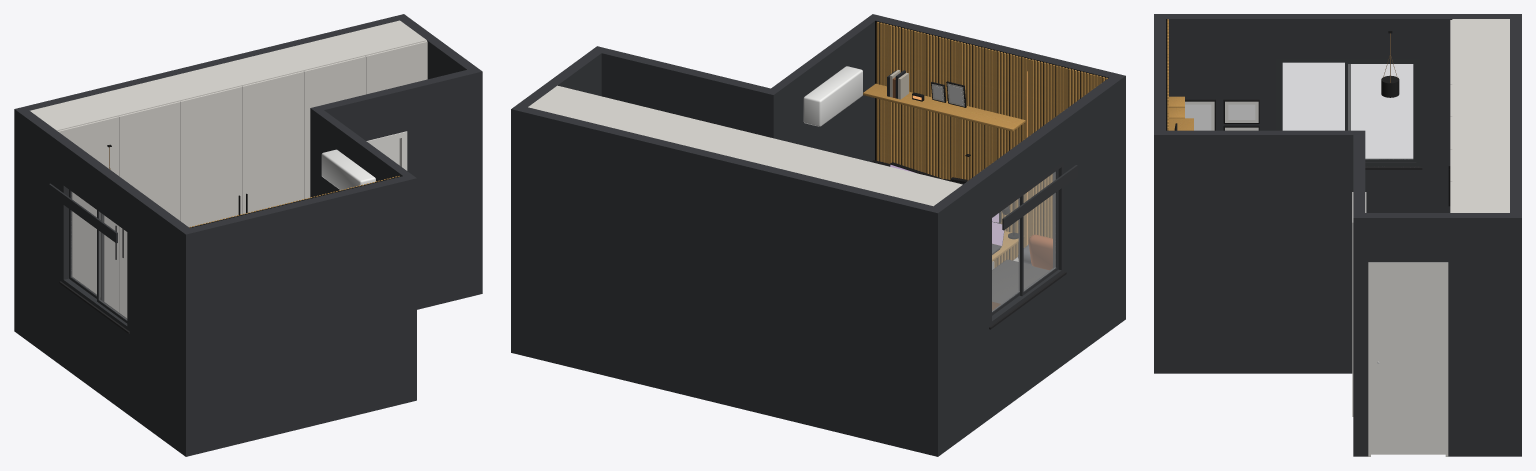
File: quarto.glb
The picture shows the model from 3 angles, left to right: view 1: azimuth 30°, elevation 25°; view 2: azimuth 150°, elevation 25°; view 3: azimuth 270°, elevation 25°; orthographic projection. The views are drawn at different scales.
Visible parts, largest first — view 1: Parede_D, Banheiro_LE, Parede_E_trecho_EE, Parede_E_trecho_ED, Armario_existente_corpo, Armario_existente_porta_4, Armario_existente_porta_3, Armario_existente_porta_2, Parede_E_peitoril, Parede_C, Armario_existente_porta_1, Parede_E_verga (+13 smaller); view 2: Parede_Fundo_Armario, Ripado_Ripas_Freijo, Parede_E_trecho_ED, Parede_E_trecho_EE, Armario_existente_corpo, Parede_C, Ripado_Fundo_MDF_Preto, Parede_E_peitoril, Parede_E_verga, Banheiro_LE, Parede_D, Banheiro_verga_porta (+11 smaller); view 3: Parede_C, Parede_Leste_2, Porta_Entrada_folha_0_75, Armario_existente_corpo, Parede_E_trecho_EE, Parede_E_verga, Parede_E_trecho_ED, Janela_Folha_2_vidro, Parede_Fundo_Armario, Janela_Folha_1_vidro, Parede_Leste_verga, Parede_Leste_1 (+14 smaller).
Part boxes in pixels (<box>): Parede_D: <box>180,174,416,456</box>; Banheiro_LE: <box>402,70,472,309</box>; Parede_E_trecho_EE: <box>129,190,189,452</box>; Parede_E_trecho_ED: <box>14,107,70,365</box>; Armario_existente_corpo: <box>30,20,426,130</box>; Armario_existente_porta_4: <box>242,71,304,213</box>; Armario_existente_porta_3: <box>180,86,242,227</box>; Armario_existente_porta_2: <box>118,101,180,317</box>; Parede_E_peitoril: <box>61,285,129,414</box>; Parede_C: <box>310,108,416,402</box>; Armario_existente_porta_1: <box>57,116,118,311</box>; Parede_E_verga: <box>61,141,138,229</box>; Parede_Fundo_Armario: <box>511,104,943,456</box>; Ripado_Ripas_Freijo: <box>876,22,1107,267</box>; Parede_E_trecho_ED: <box>927,172,989,456</box>; Parede_E_trecho_EE: <box>1053,77,1119,364</box>; Armario_existente_corpo: <box>528,85,962,206</box>; Parede_C: <box>771,14,880,161</box>; Ripado_Fundo_MDF_Preto: <box>875,20,1108,265</box>; Parede_E_peitoril: <box>990,276,1063,418</box>; Parede_E_verga: <box>980,118,1063,215</box>; Banheiro_LE: <box>601,49,679,113</box>; Parede_D: <box>868,15,1125,323</box>; Banheiro_verga_porta: <box>674,66,743,129</box>; Parede_C: <box>1154,130,1365,373</box>; Parede_Leste_2: <box>1448,213,1520,456</box>; Porta_Entrada_folha_0_75: <box>1371,268,1445,454</box>; Armario_existente_corpo: <box>1452,19,1509,212</box>; Parede_E_trecho_EE: <box>1166,14,1275,130</box>; Parede_E_verga: <box>1275,14,1420,58</box>; Parede_E_trecho_ED: <box>1420,14,1521,212</box>; Janela_Folha_2_vidro: <box>1348,64,1412,158</box>; Parede_Fundo_Armario: <box>1510,14,1521,456</box>; Janela_Folha_1_vidro: <box>1283,63,1344,130</box>; Parede_Leste_verga: <box>1368,213,1448,262</box>; Parede_Leste_1: <box>1353,213,1368,456</box>.
Bounding box in the file's own units: 5.01 × 2.66 × 3.69.
42 materials, 5 textured.
